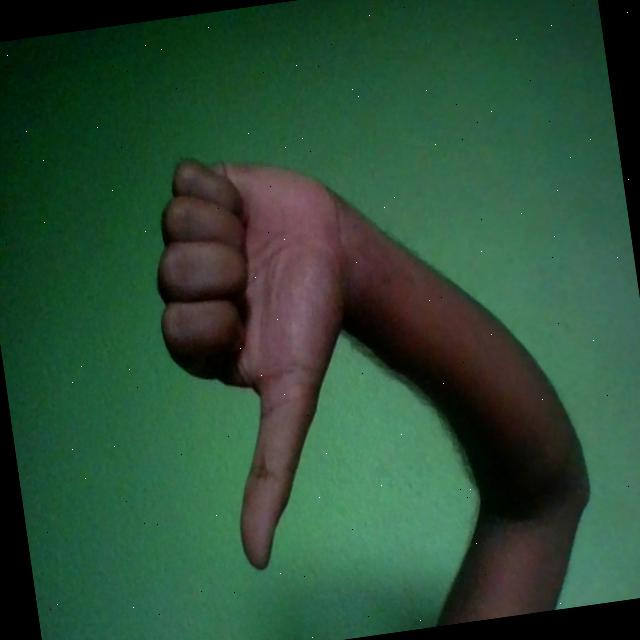Dislike: (138, 134, 391, 579)
